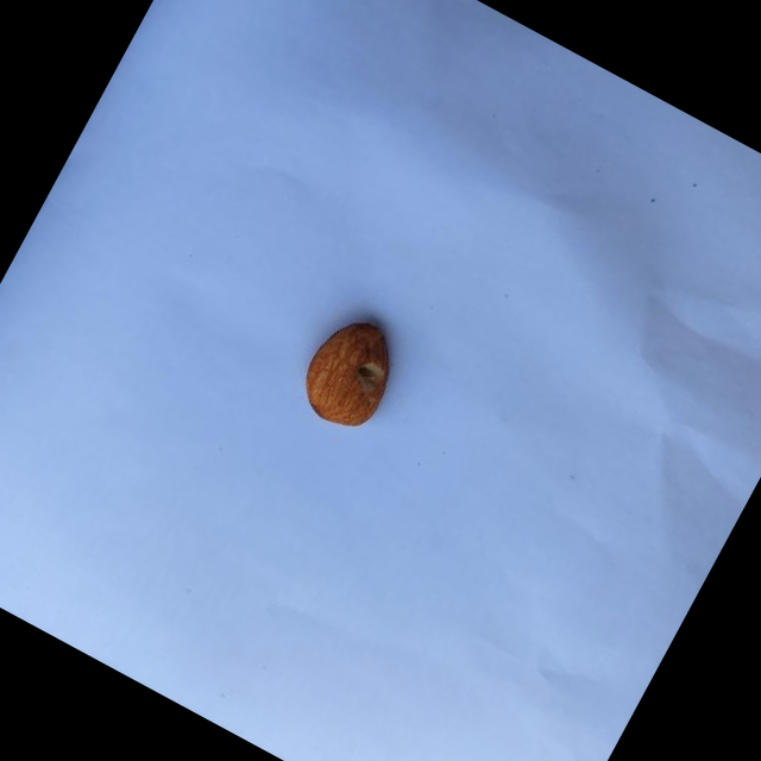grade3: (285, 301, 420, 446)
